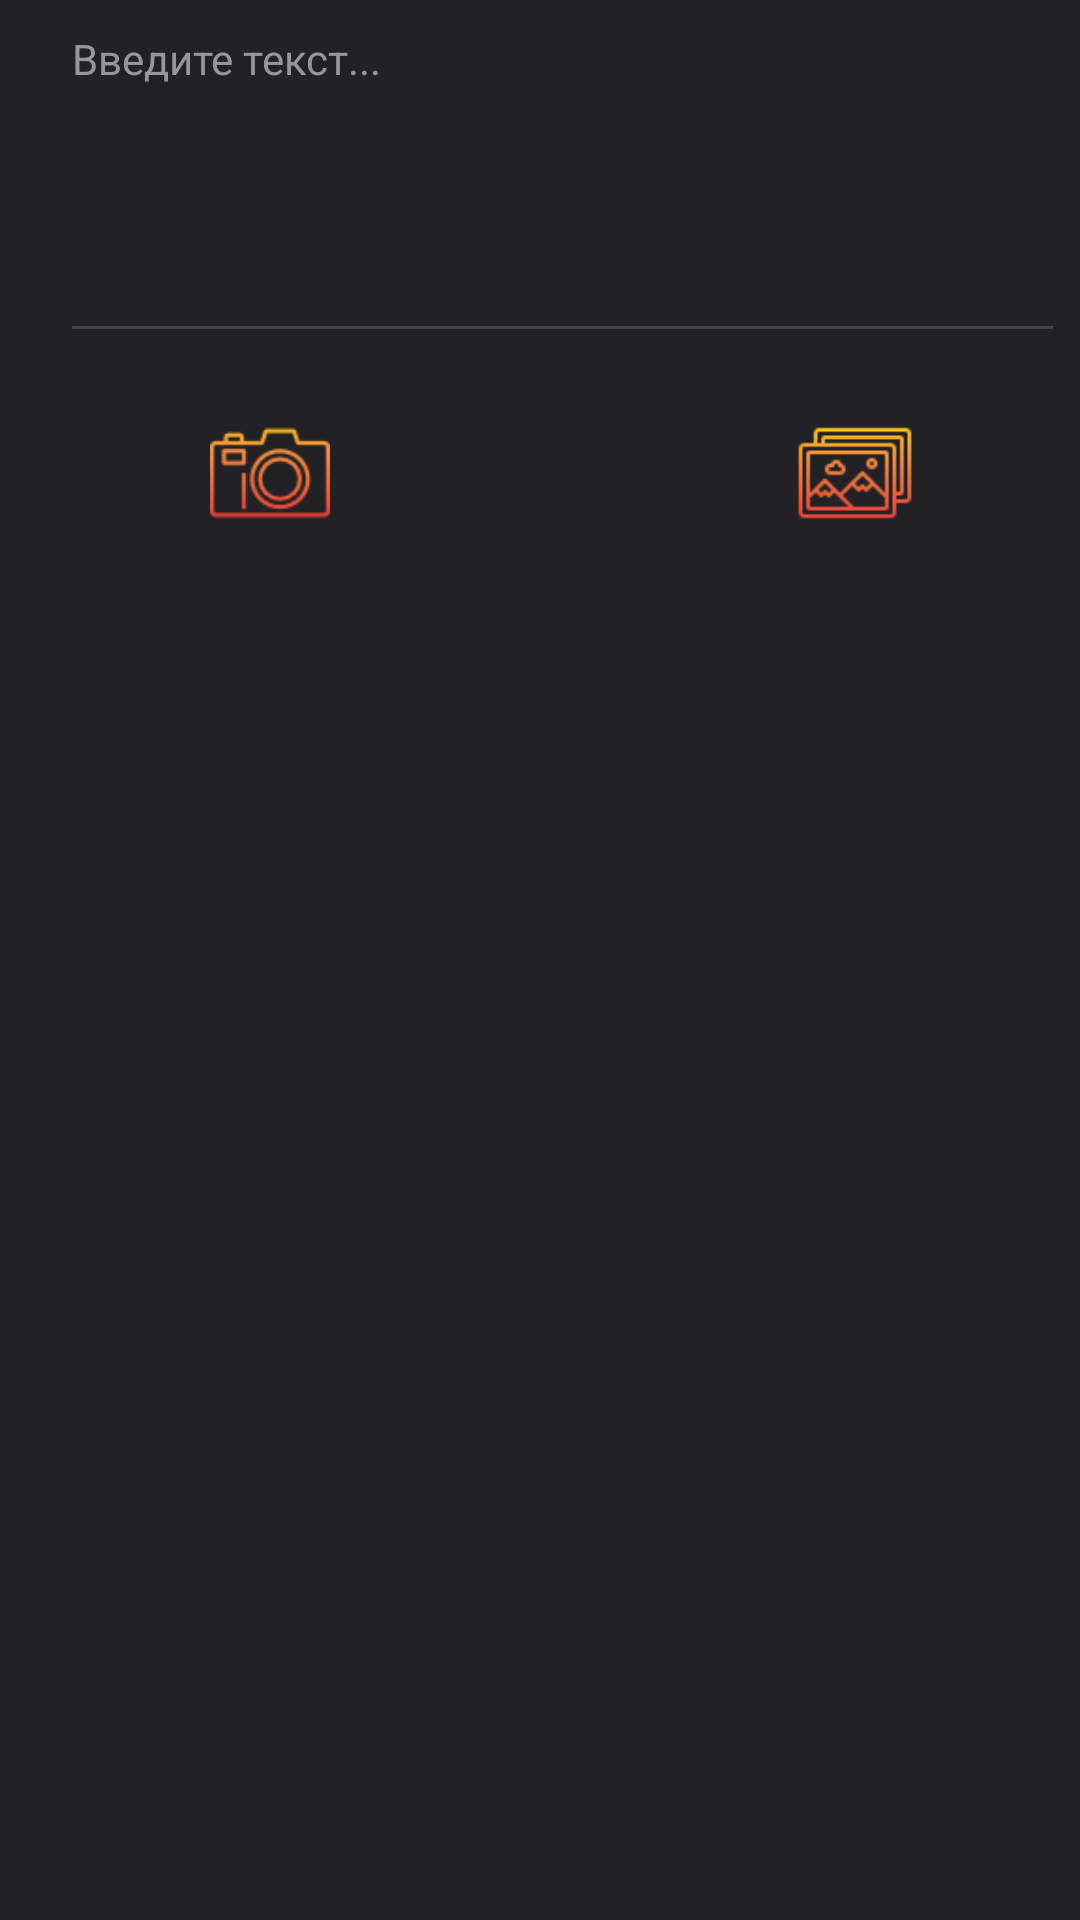

Where to tap for icons on this 1080x1920 app screen, as [x,y]:
camera gold: [270,473]
gallery: [855,473]
